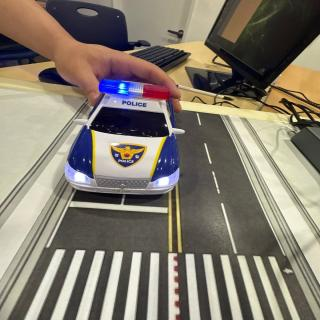Police_car: (65, 80, 184, 194)
